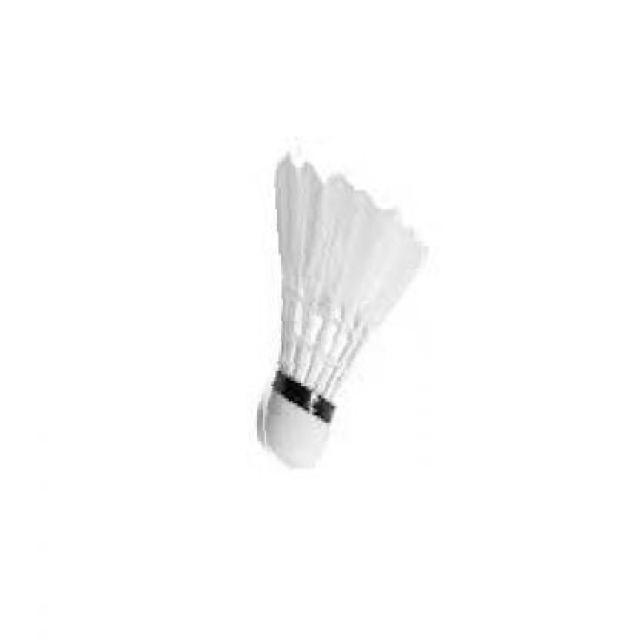Shuttlecock: (249, 142, 434, 472)
